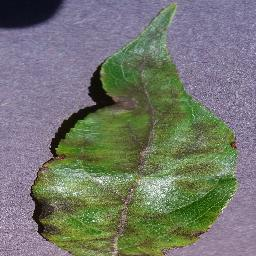apple healthy: (29, 1, 239, 255)
